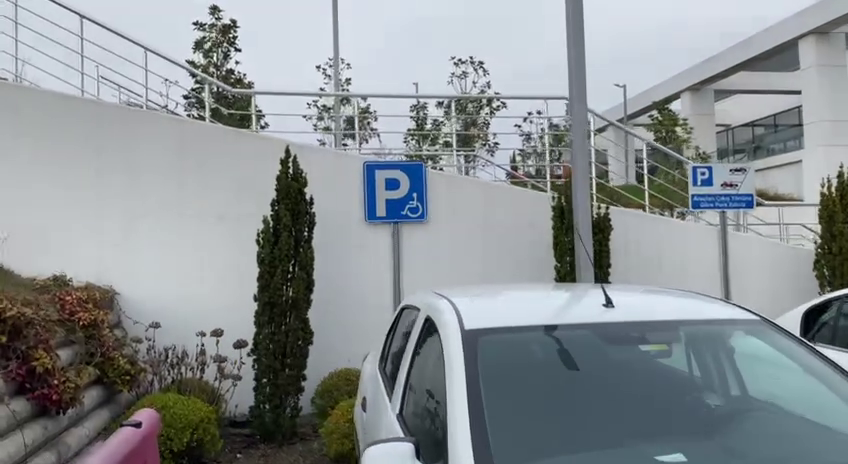parking: (361, 160, 429, 224), (689, 163, 715, 188)
